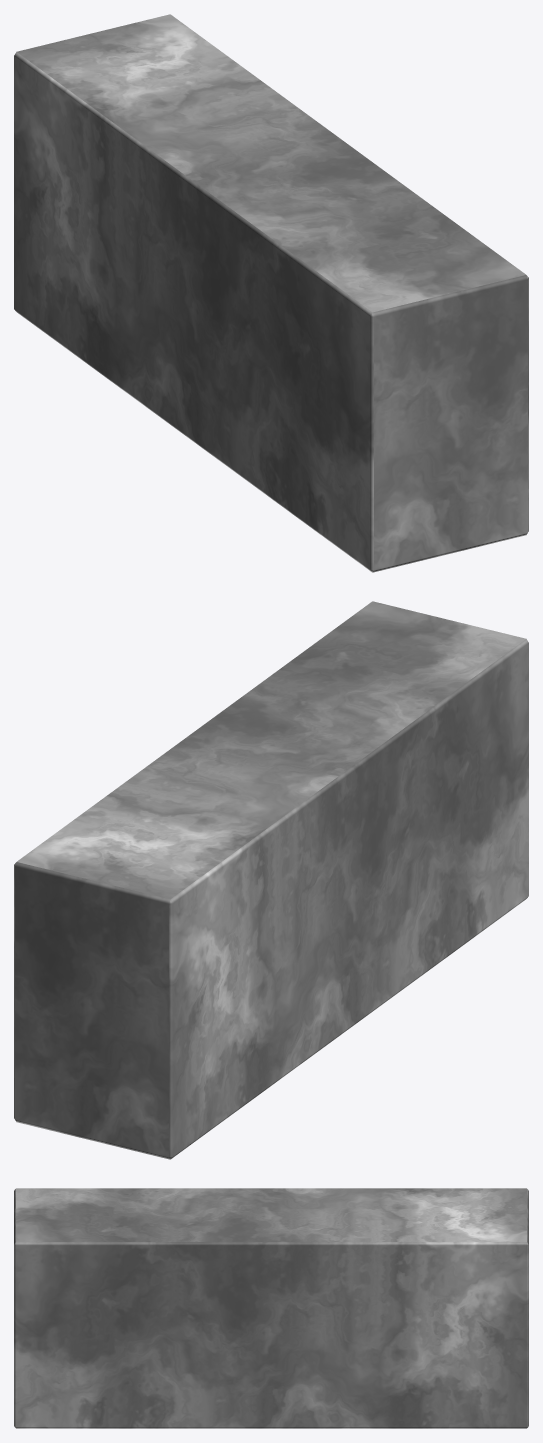
File: SM_wall_small.fbx
3 views of the same model, one above another, from view 1: azimuth 30°, elevation 25°; view 2: azimuth 150°, elevation 25°; view 3: azimuth 270°, elevation 25° (orthographic). The views are drawn at different scales.
Visible parts, largest first — view 1: SM_wall_small; view 2: SM_wall_small; view 3: SM_wall_small.
Boxes of the visible parts, x1,y1,x2,y2 form: SM_wall_small: [14, 14, 528, 572]; SM_wall_small: [14, 601, 528, 1159]; SM_wall_small: [14, 1188, 528, 1428].
Bounding box in the file's own units: 63.88 × 250 × 100.
Materials: 1 (1 with a texture image).
